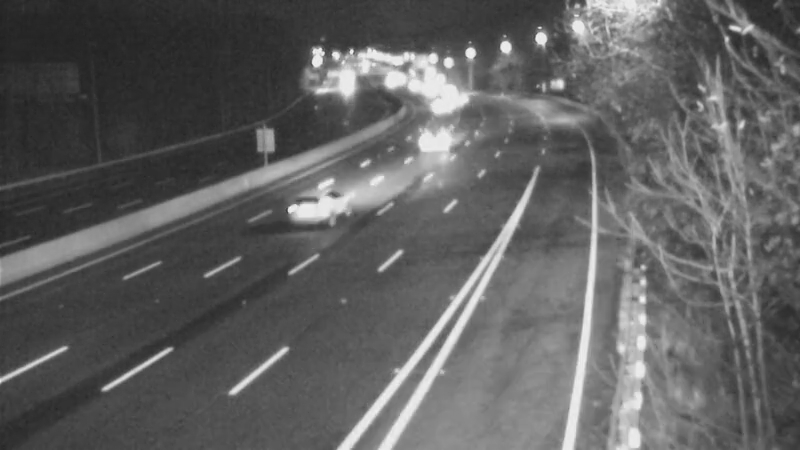vehicle: (281, 162, 361, 242), (403, 63, 453, 113), (419, 63, 469, 113), (416, 81, 466, 131), (418, 109, 468, 159)
